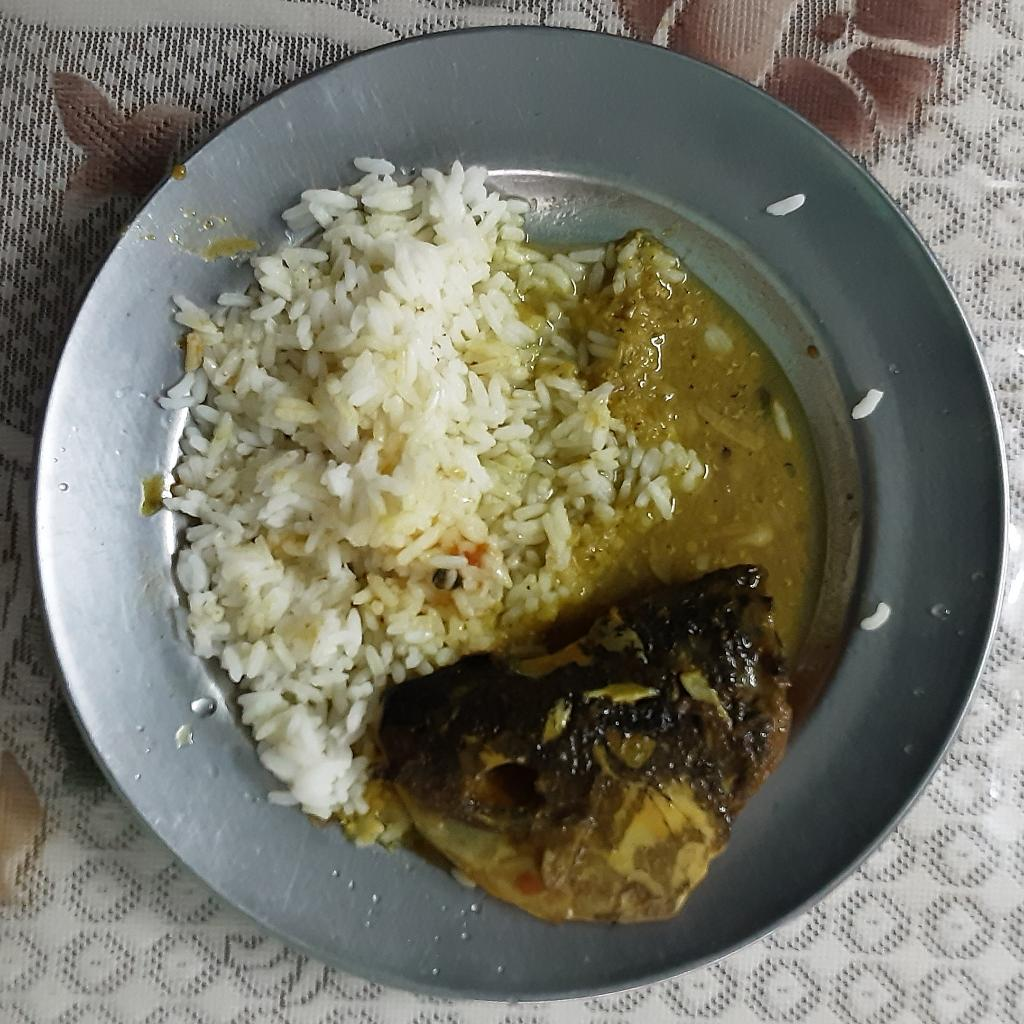daal: (500, 248, 830, 686)
fish: (372, 564, 789, 922)
rice: (157, 153, 709, 846)
